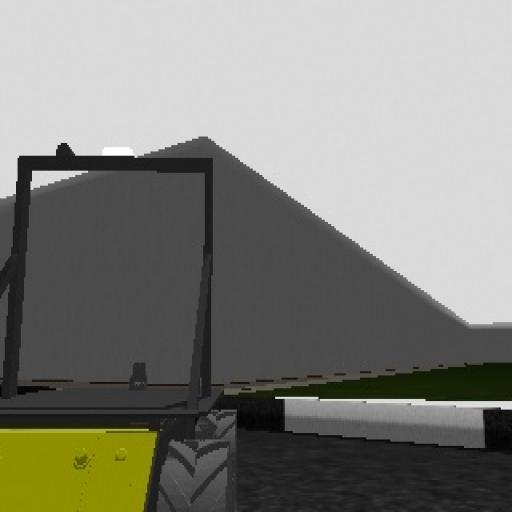huskya200: (0, 125, 246, 492)
